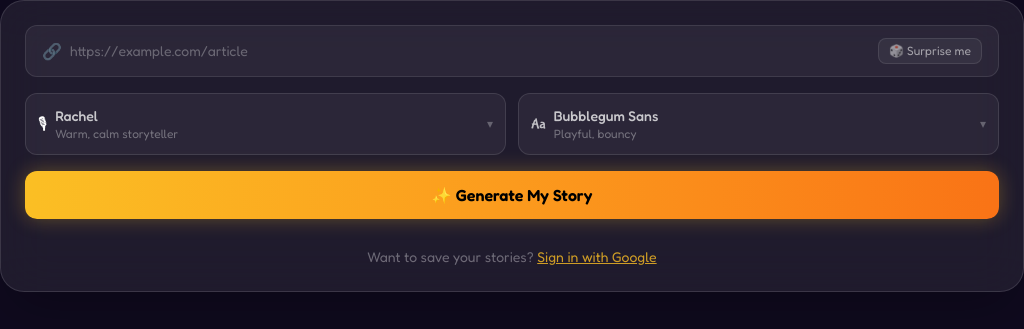
it: UrlForm › shows validation error for empty submit
The image size is (1024, 329).
Click the button "✨ Generate My Story": (512,195) left=25, top=171, right=999, bottom=219
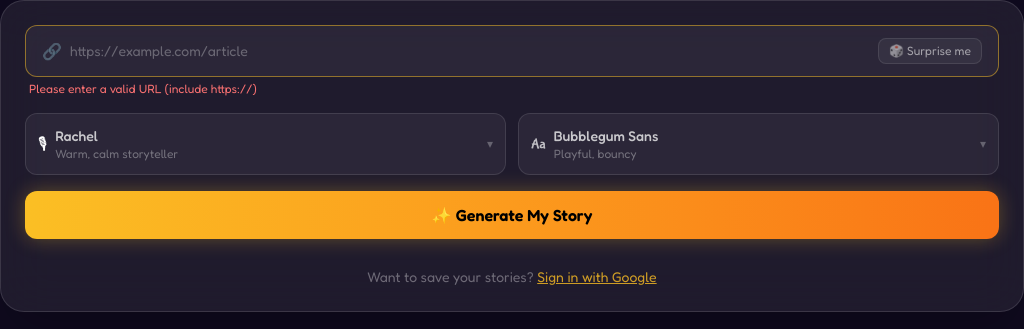
expect the text "Please enter a valid URL (include https://)" is shown: met, box left=29, top=81, right=257, bottom=96
